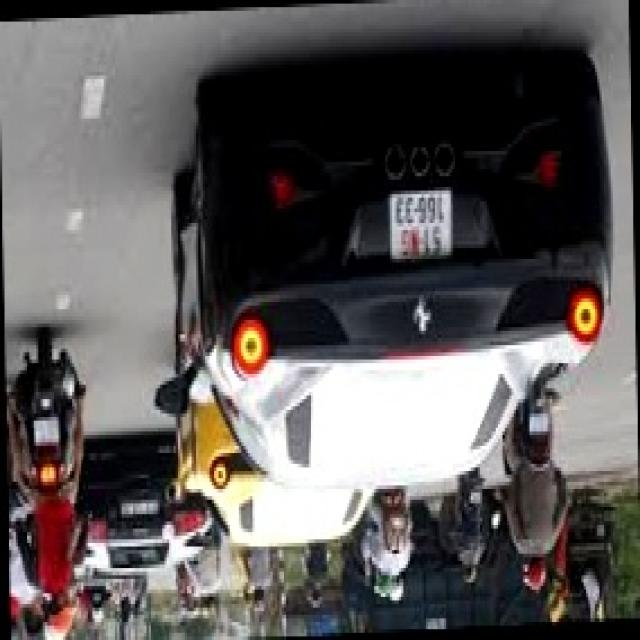bien_ngoai_giao: (392, 188, 453, 264)
